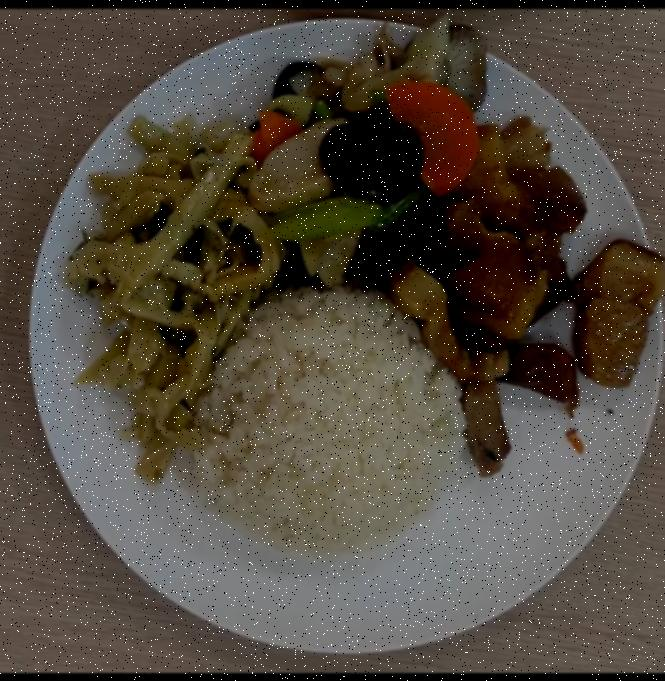braised pork: (403, 115, 665, 470)
plate: (40, 21, 665, 661)
side dish: (69, 110, 273, 488), (254, 36, 487, 276)
white rice: (181, 277, 463, 548)
